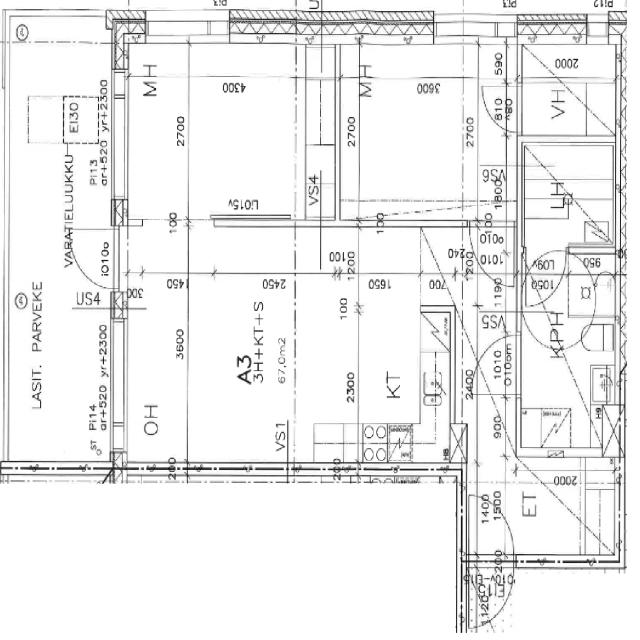door: (70, 229, 128, 288), (469, 496, 513, 568), (469, 555, 513, 627), (471, 334, 521, 394), (469, 219, 513, 285), (526, 247, 566, 308), (481, 86, 521, 132)
